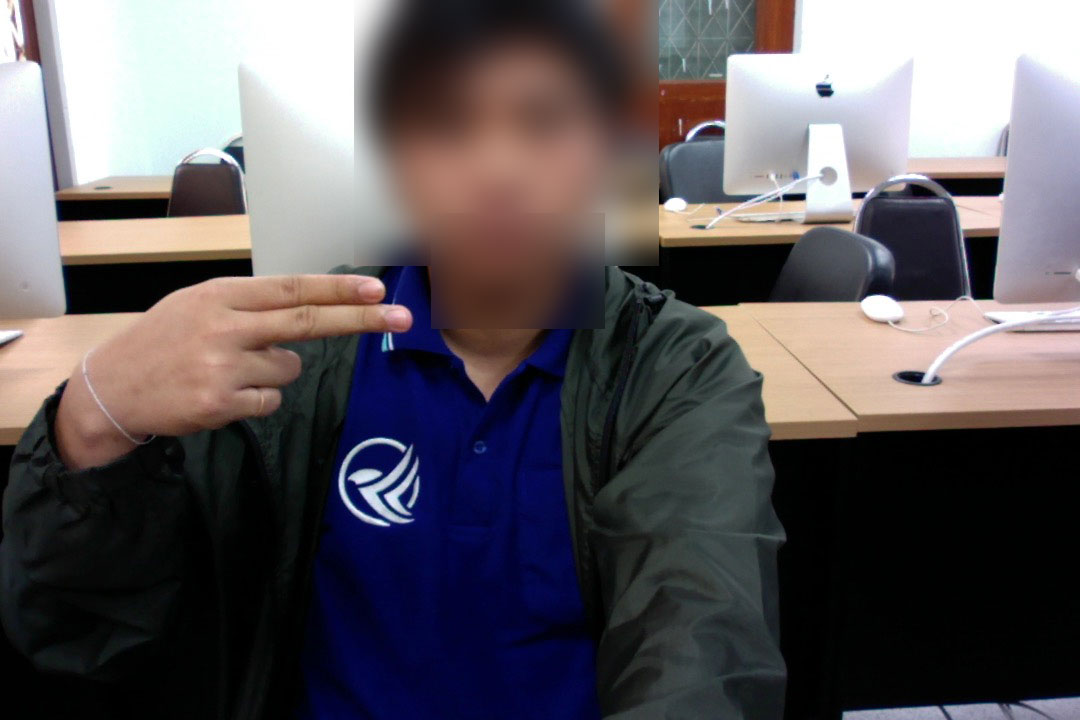hor: (49, 267, 429, 451)
